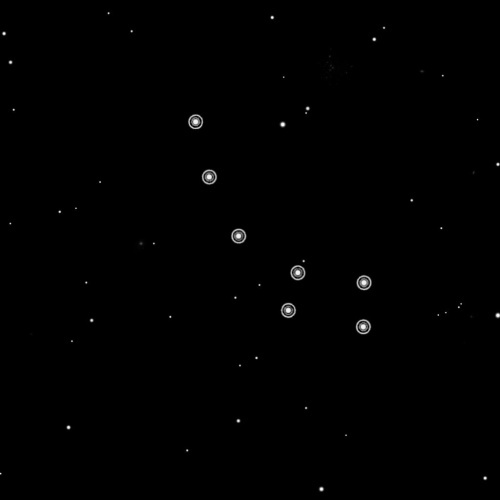ursa_minor: (184, 108, 375, 339)
